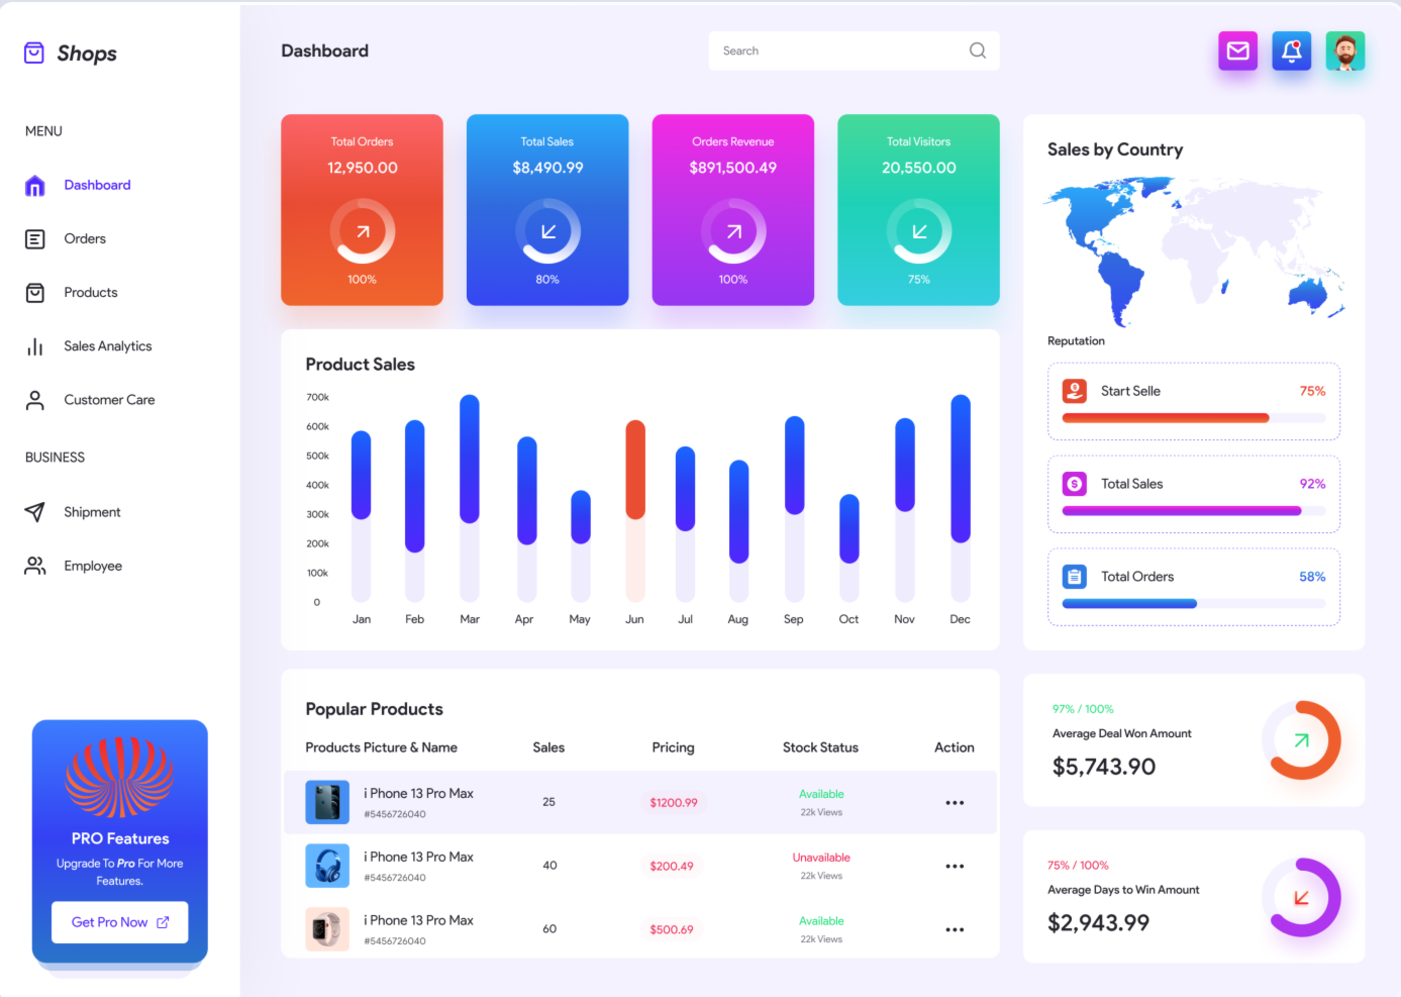block: (1, 3, 239, 997), (278, 669, 1001, 959), (1025, 117, 1365, 653), (1022, 672, 1363, 809), (1022, 827, 1363, 962), (33, 719, 207, 965), (51, 900, 188, 943)
chart: (281, 329, 1001, 653), (1039, 134, 1347, 356), (653, 113, 816, 305), (281, 114, 444, 306), (466, 113, 629, 305), (837, 113, 1000, 305), (1047, 363, 1340, 441), (1047, 454, 1340, 532), (1048, 549, 1340, 627), (1237, 689, 1356, 796), (1238, 843, 1357, 950)
form: (709, 30, 998, 73)
icon: (303, 779, 351, 824), (304, 842, 352, 887), (304, 906, 352, 951), (1219, 32, 1258, 71), (1273, 31, 1311, 70), (19, 272, 52, 312), (1058, 559, 1090, 595), (149, 903, 181, 938), (961, 33, 993, 68), (1059, 372, 1091, 407), (939, 910, 971, 945), (19, 329, 51, 364), (19, 382, 51, 416), (19, 492, 51, 527), (20, 547, 52, 582), (940, 783, 972, 818), (940, 846, 972, 880), (1060, 465, 1091, 500), (20, 221, 51, 257), (20, 172, 51, 203), (22, 36, 49, 69)
image: (56, 732, 186, 827), (1326, 32, 1365, 72)
table: (292, 693, 986, 956)
